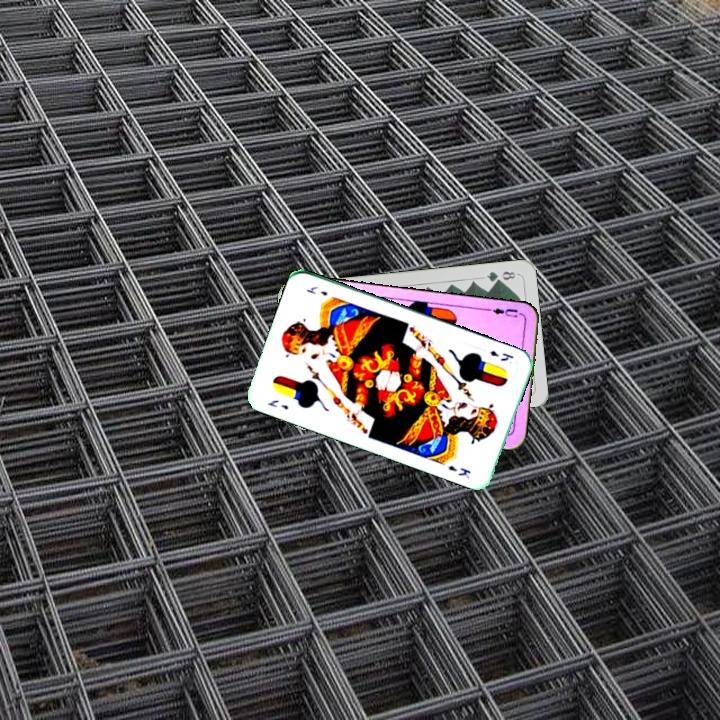EK: (486, 346, 516, 364), (263, 396, 291, 412)
EU: (484, 304, 520, 321)
G8: (483, 267, 520, 285)
